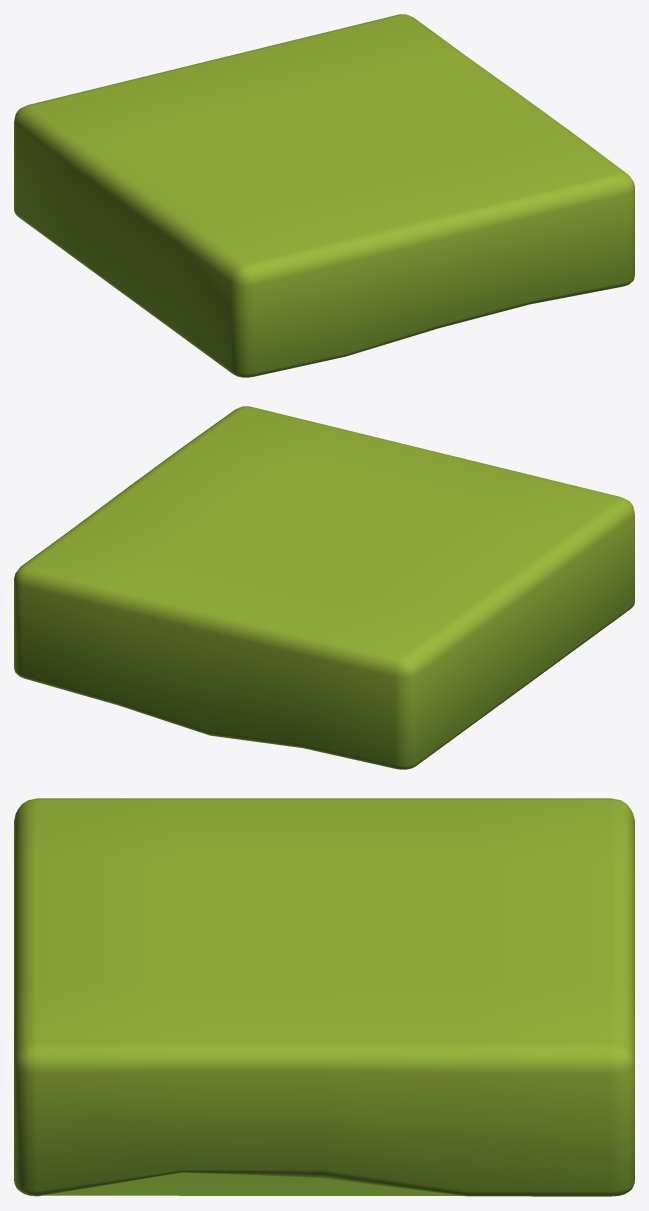
File: Cube_Grass.fbx
The picture shows the model from 3 angles, top to bottom: view 1: azimuth 30°, elevation 25°; view 2: azimuth 150°, elevation 25°; view 3: azimuth 270°, elevation 25°; orthographic projection. The views are drawn at different scales.
Parts seen in each view (by area): view 1: Cube_Grass; view 2: Cube_Grass; view 3: Cube_Grass.
Part boxes in pixels (left/top/right/bottom): Cube_Grass: left=14, top=14, right=634, bottom=377; Cube_Grass: left=14, top=406, right=634, bottom=769; Cube_Grass: left=14, top=798, right=634, bottom=1196.
Bounding box in the file's own units: 2.03 × 0.5892 × 2.03.
